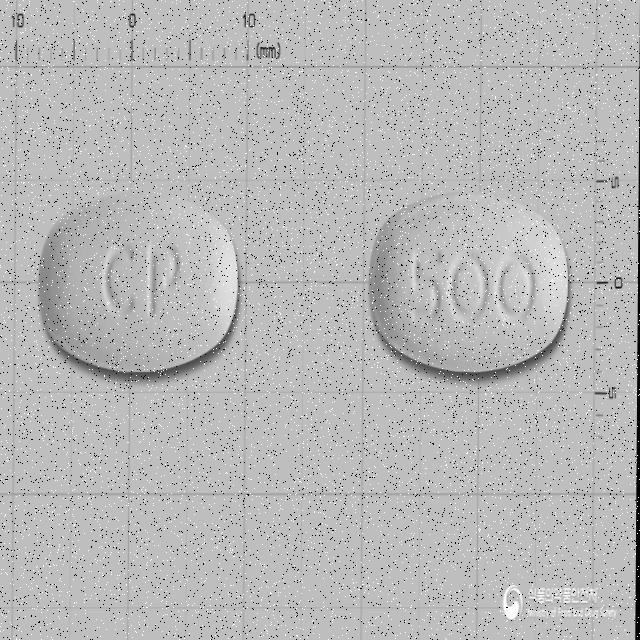Refloxin Tab- -For Export-: (369, 190, 571, 374), (40, 191, 239, 374)
